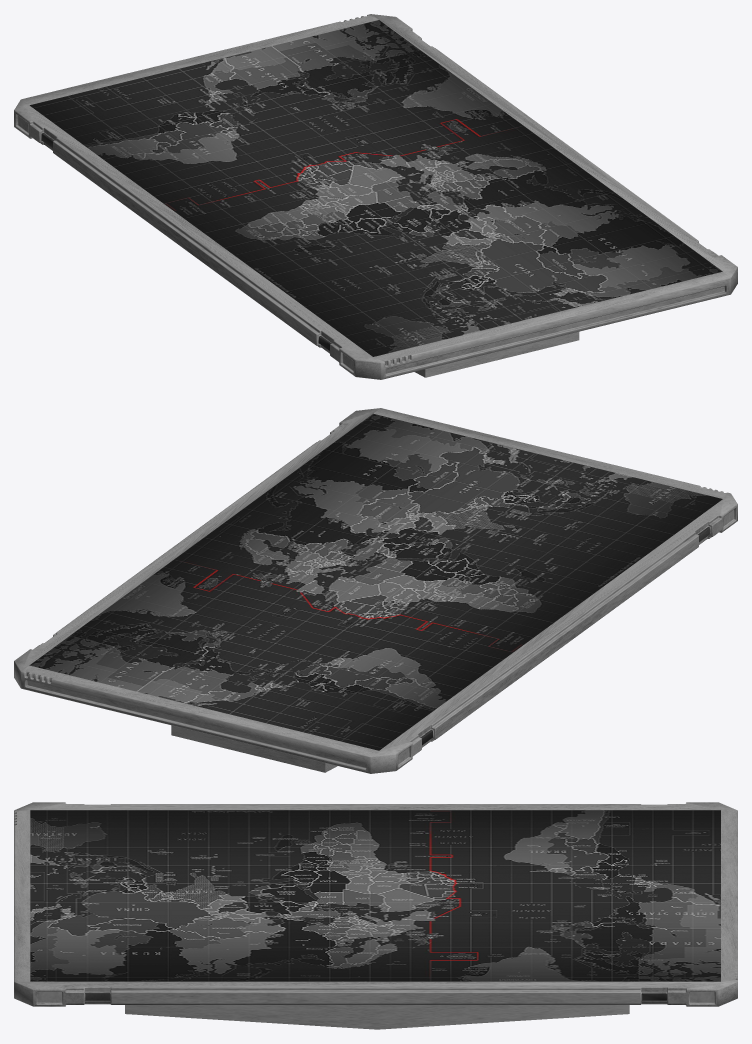
Rendered from CIC_BigTable.fbx.
The picture shows the model from 3 angles, top to bottom: view 1: azimuth 30°, elevation 25°; view 2: azimuth 150°, elevation 25°; view 3: azimuth 270°, elevation 25°; orthographic projection.
Visible parts, largest first — view 1: CIC_BigTable.001; view 2: CIC_BigTable.001; view 3: CIC_BigTable.001.
Part boxes in pixels (x1=…): CIC_BigTable.001: x1=14, y1=14, x2=737, y2=379; CIC_BigTable.001: x1=14, y1=408, x2=737, y2=773; CIC_BigTable.001: x1=14, y1=802, x2=737, y2=1029.
Size of the model in its own units: 3.52 by 0.698 by 5.74.
